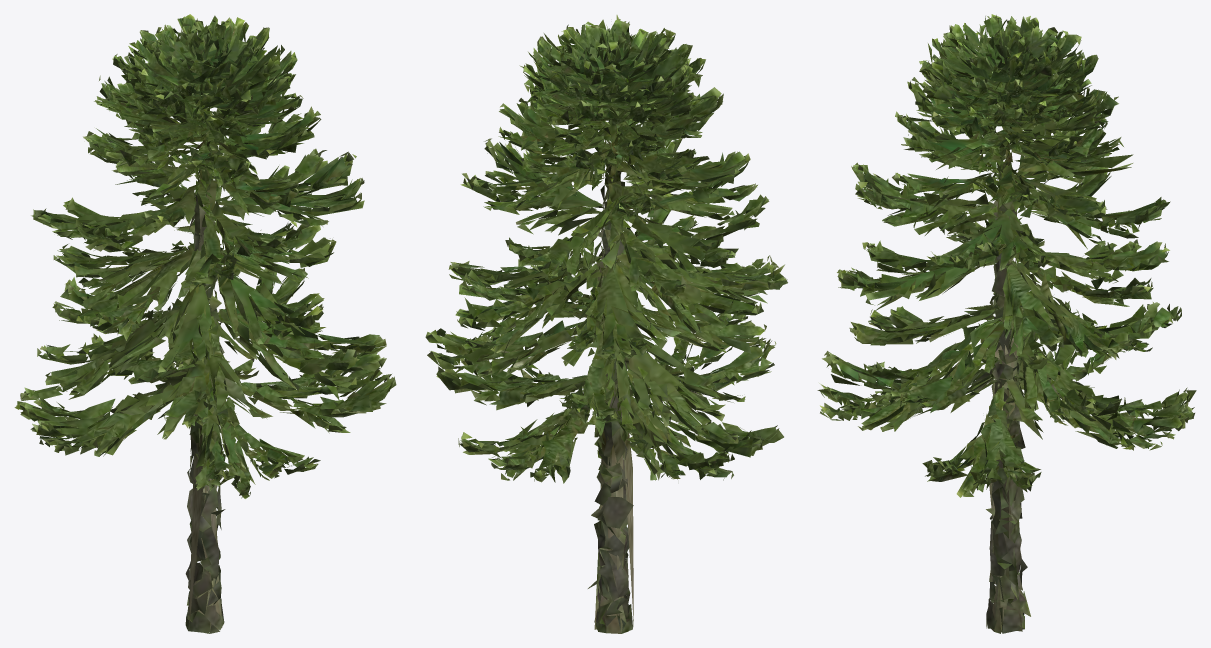
Rendered from araucaria.glb.
The picture shows the model from 3 angles, left to right: view 1: azimuth 30°, elevation 25°; view 2: azimuth 150°, elevation 25°; view 3: azimuth 270°, elevation 25°; orthographic projection.
Parts seen in each view (by area): view 1: Mesh_0; view 2: Mesh_0; view 3: Mesh_0.
Part boxes in pixels (x1,y1,x2,y2): Mesh_0: [14, 14, 396, 633]; Mesh_0: [425, 15, 787, 633]; Mesh_0: [817, 14, 1196, 633].
Bounding box in the file's own units: 0.5726 × 1 × 0.575.
Materials: 1 (1 with a texture image).
